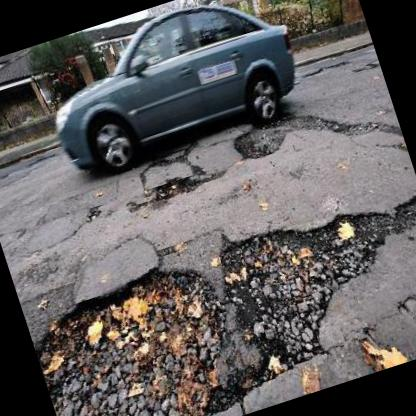pothole: (18, 181, 416, 416), (228, 117, 289, 166), (148, 168, 207, 206)
